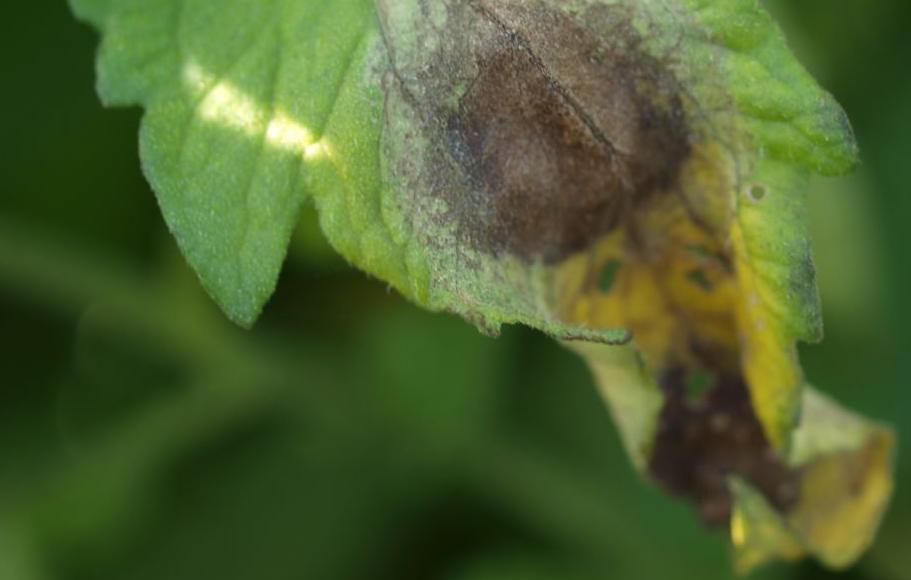Tomato leaf late blight: (0, 0, 900, 577)
